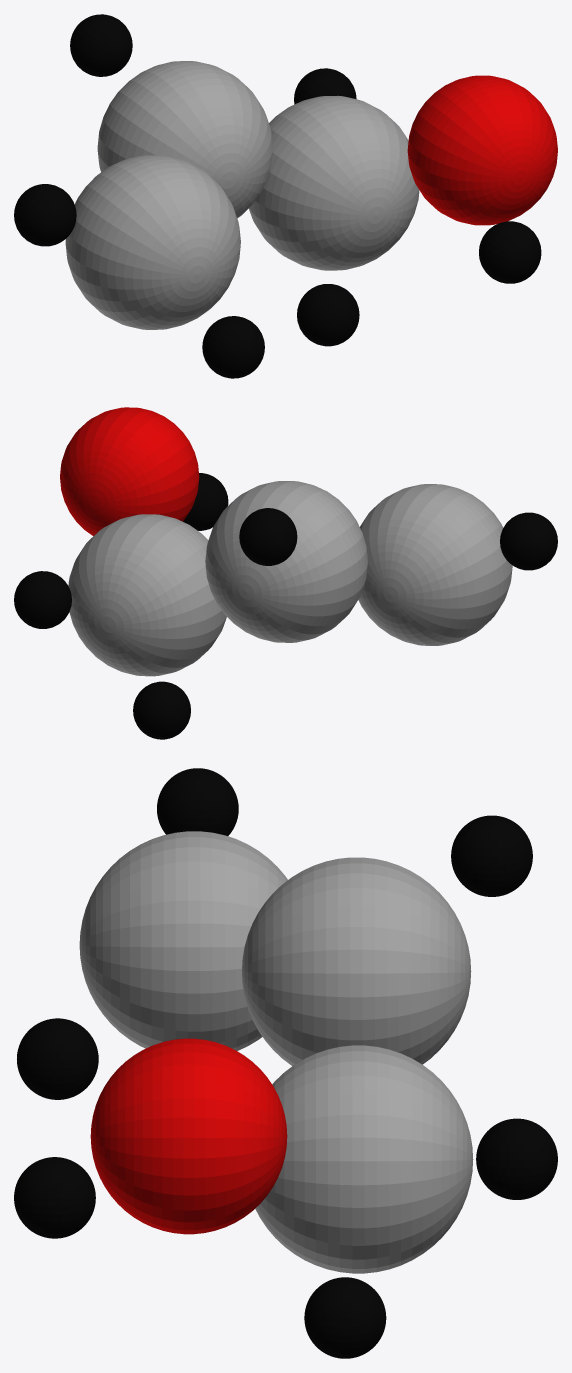
File: Allyl Alcohol.glb
3 renders of one model, top to bottom at view 1: azimuth 30°, elevation 25°; view 2: azimuth 150°, elevation 25°; view 3: azimuth 270°, elevation 25°, orthographic. The views are drawn at different scales.
Visible parts, largest first — view 1: world; view 2: world; view 3: world.
Boxes of the visible parts, x1,y1,x2,y2 form: world: [14, 14, 557, 378]; world: [14, 407, 557, 739]; world: [14, 768, 557, 1358].
Size of the model in its own units: 4.85 by 2.87 by 3.32.
